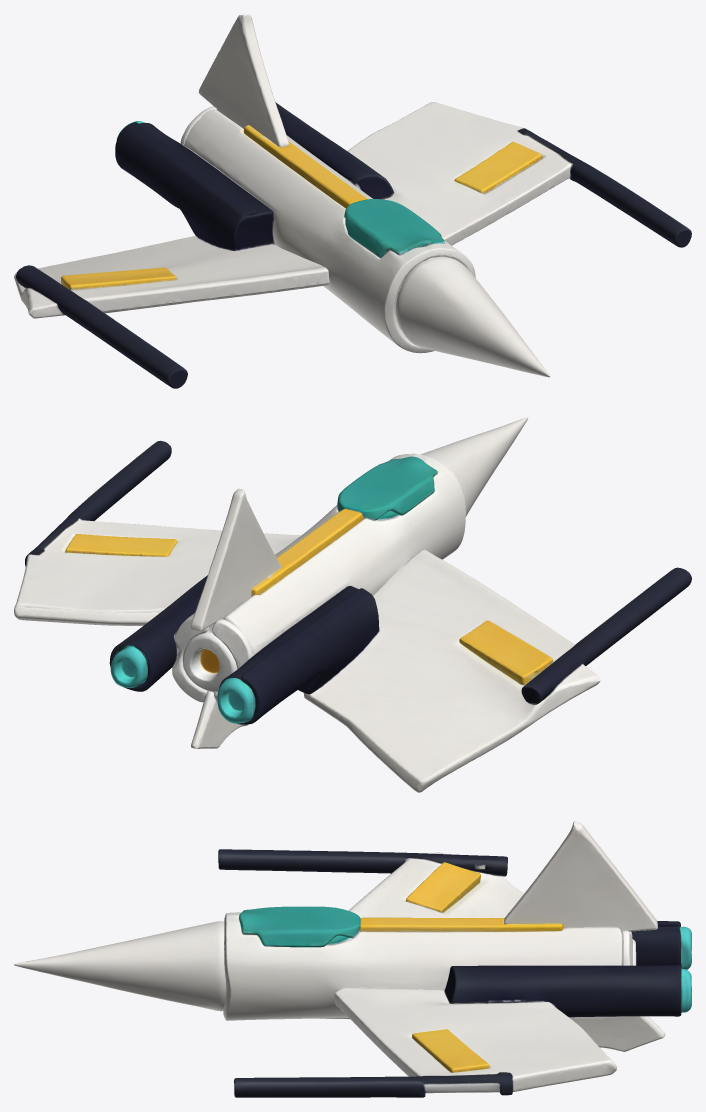
The model's file is interceptor_ref.glb.
3 views of the same model, one above another, from view 1: azimuth 30°, elevation 25°; view 2: azimuth 150°, elevation 25°; view 3: azimuth 270°, elevation 25° (orthographic). The views are drawn at different scales.
Visible parts, largest first — view 1: model; view 2: model; view 3: model.
Part boxes in pixels (x1,y1,x2,y2): model: [14, 14, 691, 388]; model: [14, 417, 691, 792]; model: [14, 821, 691, 1097].
Bounding box in the file's own units: 1.7 × 0.7063 × 1.9.
1 material, 1 textured.
